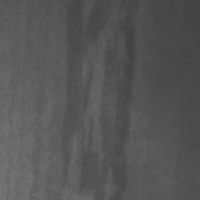inclusion: (52, 0, 139, 200)
